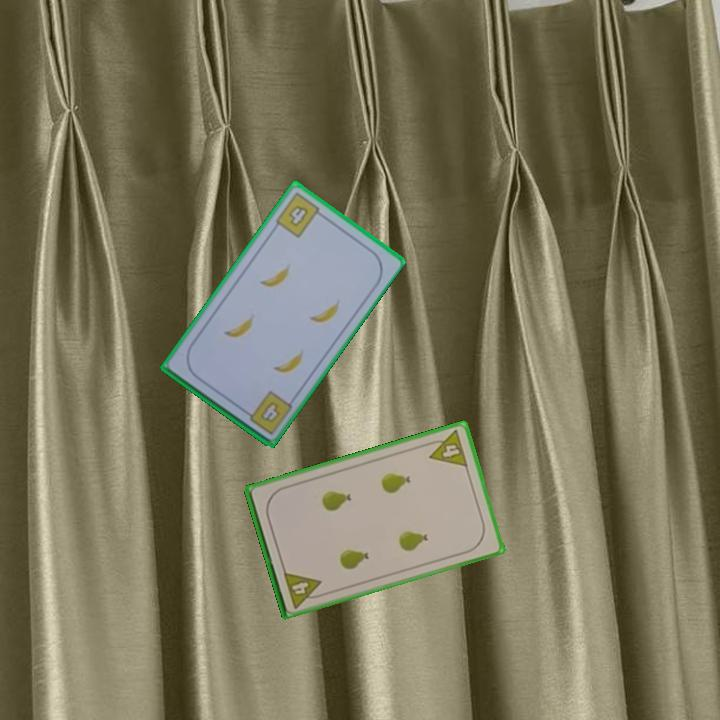4b: (272, 189, 327, 241), (240, 387, 295, 438)
4p: (422, 427, 471, 470), (280, 568, 327, 611)
